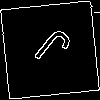J: (25, 25, 75, 78)
